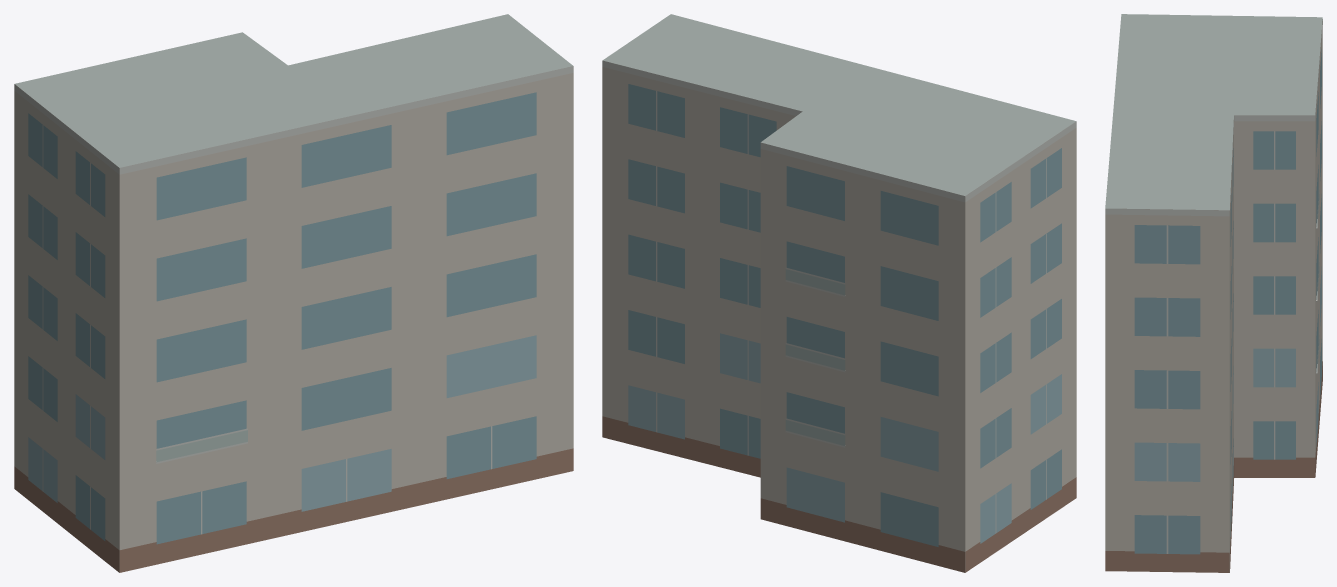
The model's file is survey-upis-32912079.glb.
3 renders of one model, left to right at view 1: azimuth 30°, elevation 25°; view 2: azimuth 150°, elevation 25°; view 3: azimuth 270°, elevation 25°, orthographic. The views are drawn at different scales.
Visible parts, largest first — view 1: survey-upis-32912079.tmp; view 2: survey-upis-32912079.tmp; view 3: survey-upis-32912079.tmp.
Part boxes in pixels (x1,y1,x2,y2): survey-upis-32912079.tmp: (14,14,573,572); survey-upis-32912079.tmp: (602,14,1076,572); survey-upis-32912079.tmp: (1105,14,1322,572).
Bounding box in the file's own units: 16.84 × 14.5 × 7.9.
